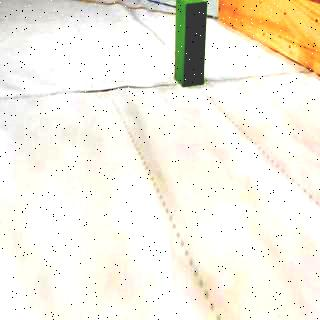greenbox: (175, 0, 210, 86)
